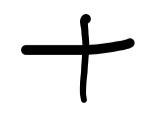plus: (22, 14, 135, 103)
